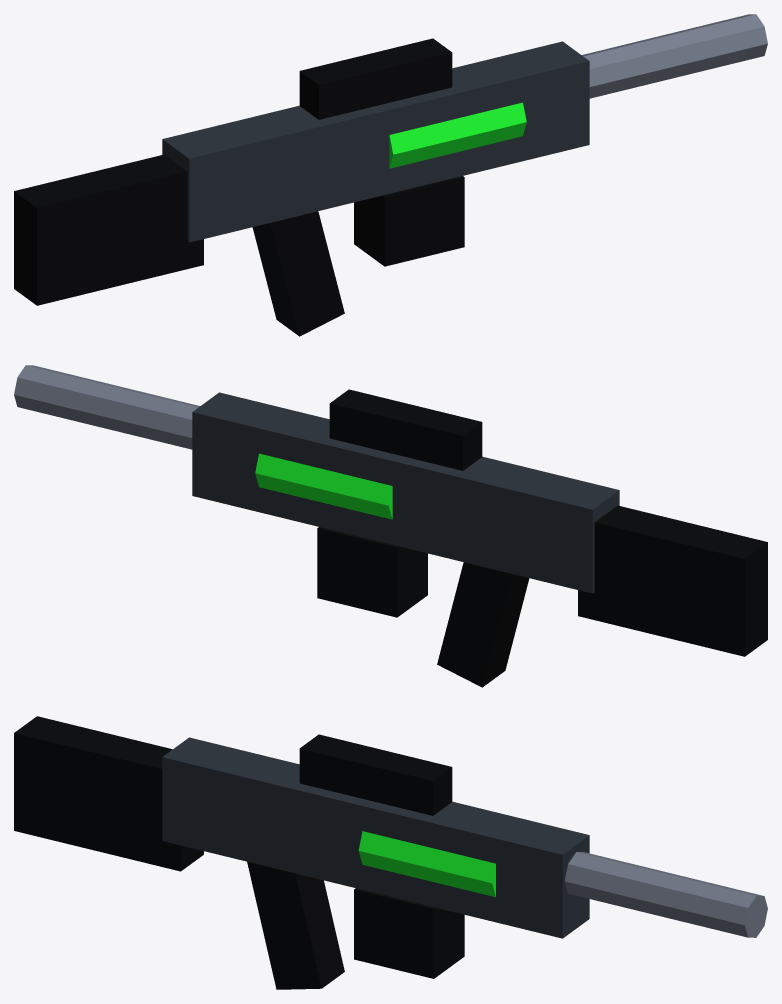
File: plasma_rifle.obj
3 views of the same model, one above another, from view 1: azimuth 30°, elevation 25°; view 2: azimuth 150°, elevation 25°; view 3: azimuth 330°, elevation 25° (orthographic).
Visible parts, largest first — view 1: plasma_rifle; view 2: plasma_rifle; view 3: plasma_rifle.
Part boxes in pixels (x1,y1,x2,y2): plasma_rifle: [14, 14, 767, 336]; plasma_rifle: [14, 365, 767, 687]; plasma_rifle: [14, 716, 767, 989].
Bounding box in the file's own units: 1.09 × 0.3509 × 0.09.
